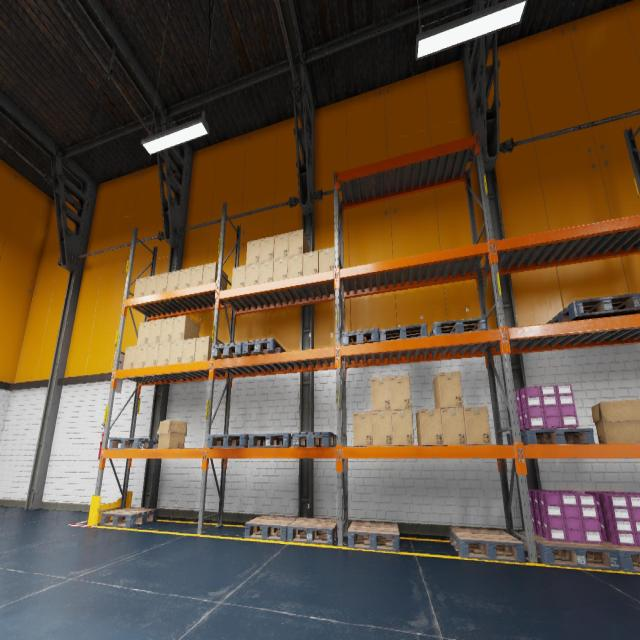box: (591, 399, 640, 444), (433, 371, 463, 408), (464, 407, 492, 445), (416, 408, 443, 446), (441, 408, 466, 445), (157, 420, 187, 448), (391, 410, 414, 446), (372, 410, 393, 446), (171, 315, 200, 341), (390, 375, 411, 410), (202, 262, 228, 290), (352, 411, 372, 446), (194, 336, 222, 361), (371, 377, 391, 411), (288, 229, 309, 256), (274, 232, 288, 259), (319, 247, 334, 272), (303, 250, 318, 275), (273, 256, 288, 281), (260, 236, 274, 262), (181, 338, 196, 362), (169, 339, 183, 364), (148, 319, 162, 344), (246, 239, 260, 264), (231, 265, 246, 288), (157, 341, 171, 365), (145, 343, 159, 367), (288, 254, 302, 278), (245, 262, 259, 286), (137, 321, 150, 346), (259, 260, 273, 283), (160, 318, 173, 342), (134, 345, 147, 368), (123, 346, 136, 369), (166, 270, 180, 291), (178, 267, 191, 289), (190, 265, 203, 286), (155, 273, 168, 293), (144, 275, 157, 295), (134, 277, 146, 297)
pallets: (519, 531, 621, 571), (546, 293, 640, 323), (449, 527, 526, 563), (348, 521, 400, 552), (506, 428, 594, 444), (244, 515, 298, 541), (288, 518, 338, 546), (603, 540, 640, 573), (100, 508, 158, 528), (428, 317, 487, 336), (380, 323, 428, 341), (242, 338, 286, 356), (342, 327, 380, 346), (292, 431, 336, 447), (212, 342, 250, 359), (249, 433, 292, 448), (208, 434, 248, 448), (109, 438, 158, 449), (626, 312, 640, 314)
